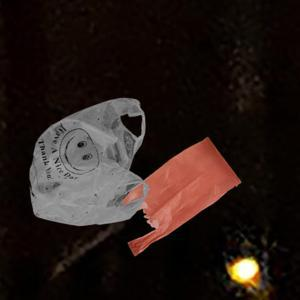plastic_bag: (26, 93, 151, 227), (117, 135, 244, 257)
